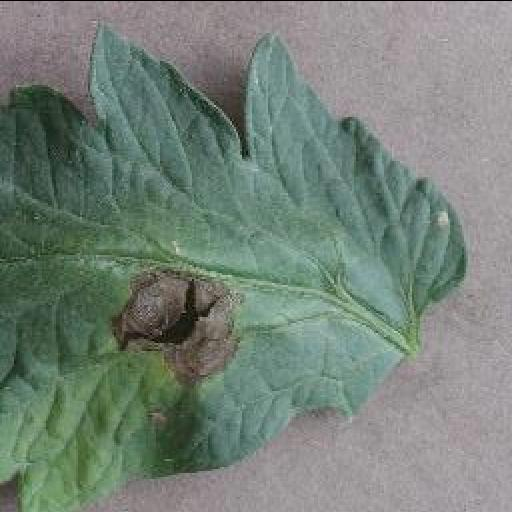disease_tomato: (1, 30, 467, 508)
